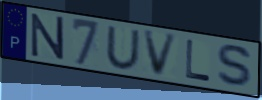7: (70, 16, 101, 68)
L: (184, 38, 212, 84)
N: (29, 12, 66, 62)
S: (215, 43, 256, 90)
U: (104, 25, 142, 72)
V: (142, 29, 180, 78)
